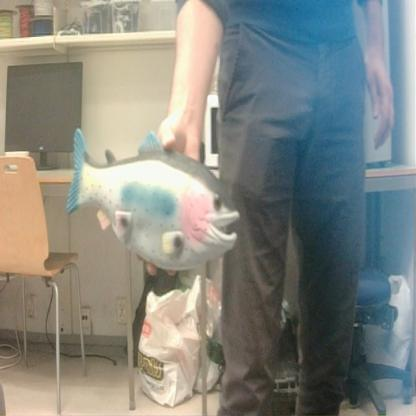rubberfish: (65, 120, 241, 277)
